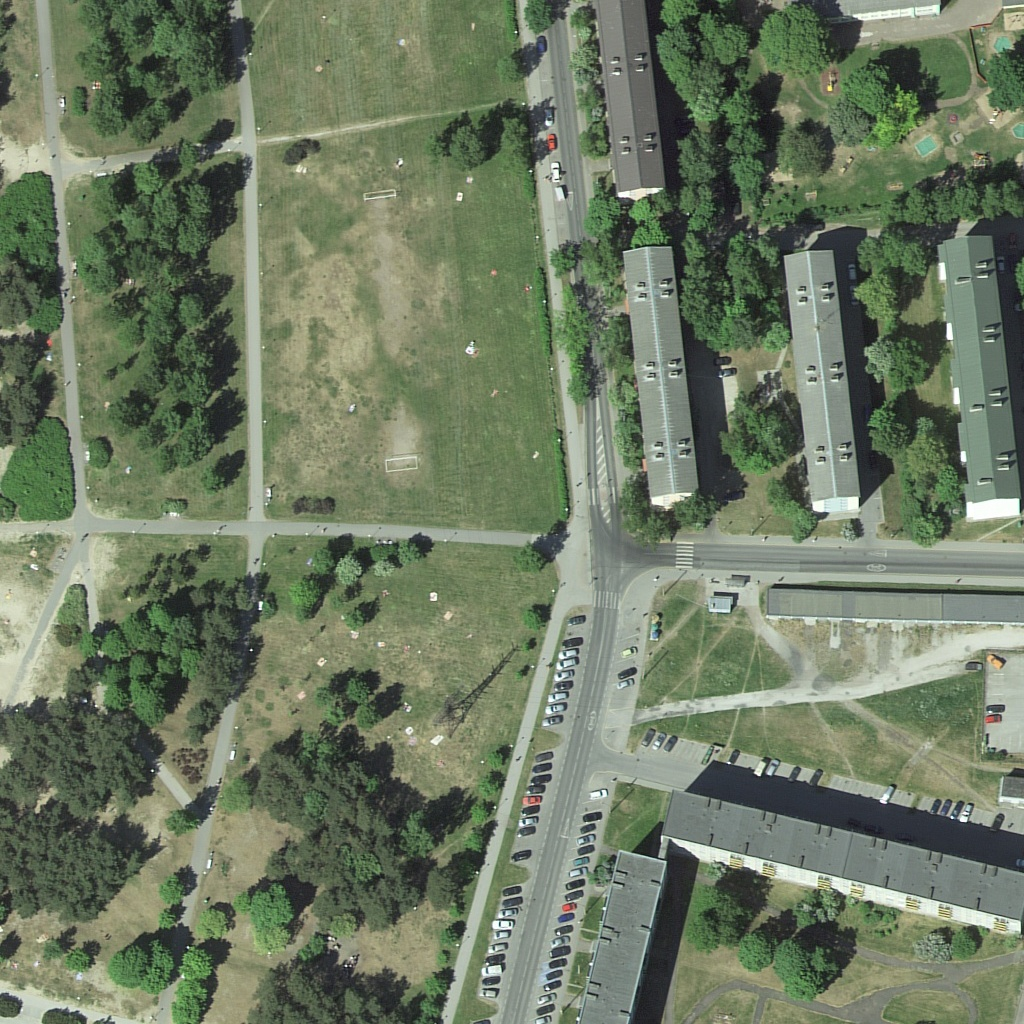building: (664, 790, 1017, 931), (934, 231, 1016, 514), (780, 246, 867, 510), (623, 237, 703, 505), (575, 851, 671, 1024), (593, 6, 676, 200), (764, 586, 1018, 624)
